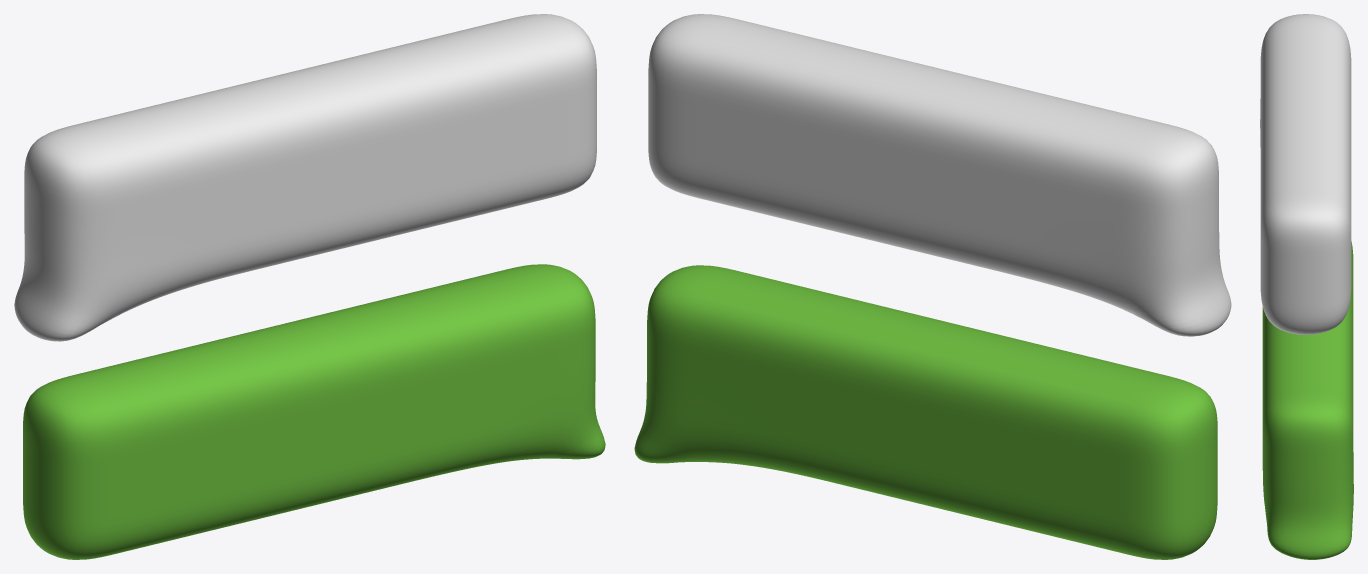
The model's file is MESSAGE.fbx.
The picture shows the model from 3 angles, left to right: view 1: azimuth 30°, elevation 25°; view 2: azimuth 150°, elevation 25°; view 3: azimuth 270°, elevation 25°; orthographic projection. The views are drawn at different scales.
Visible parts, largest first — view 1: pCube10, pasted__pCube10; view 2: pCube10, pasted__pCube10; view 3: pCube10, pasted__pCube10.
Part boxes in pixels (x1=…): pCube10: x1=14, y1=14, x2=596, y2=341; pasted__pCube10: x1=23, y1=264, x2=605, y2=559; pCube10: x1=648, y1=14, x2=1231, y2=336; pasted__pCube10: x1=634, y1=265, x2=1217, y2=559; pCube10: x1=1260, y1=14, x2=1351, y2=334; pasted__pCube10: x1=1262, y1=241, x2=1353, y2=559.
Size of the model in its own units: 2.96 by 2.16 by 0.5336.
